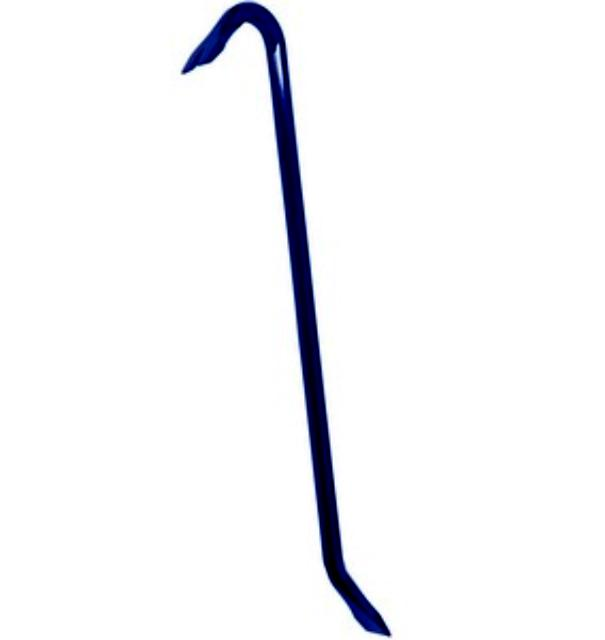crow bar: (171, 0, 401, 634)
